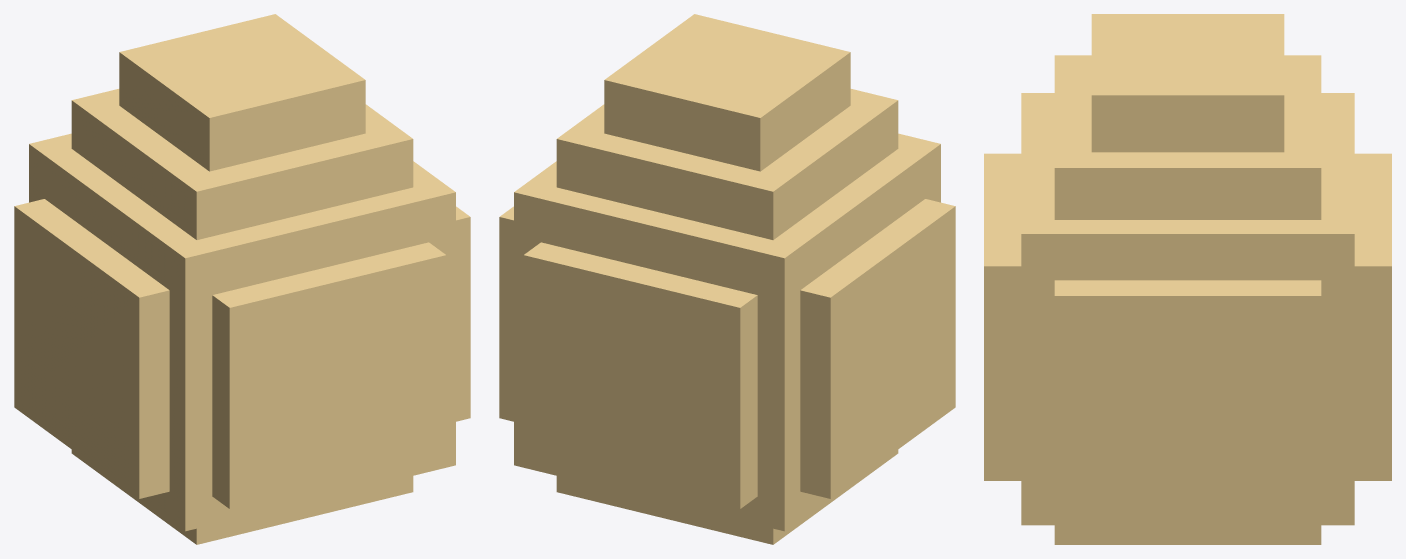
The model's file is 17.Jerboa.fbx.
The picture shows the model from 3 angles, left to right: view 1: azimuth 30°, elevation 25°; view 2: azimuth 150°, elevation 25°; view 3: azimuth 270°, elevation 25°; orthographic projection. The views are drawn at different scales.
Parts seen in each view (by area): view 1: Jerboa; view 2: Jerboa; view 3: Jerboa.
Part boxes in pixels (x1,y1,x2,y2): Jerboa: [14, 14, 470, 544]; Jerboa: [499, 14, 955, 544]; Jerboa: [984, 14, 1391, 544].
Bounding box in the file's own units: 2.89 × 3.39 × 2.89.
